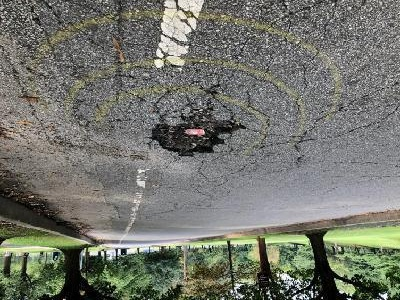pothole: (146, 113, 246, 158)
